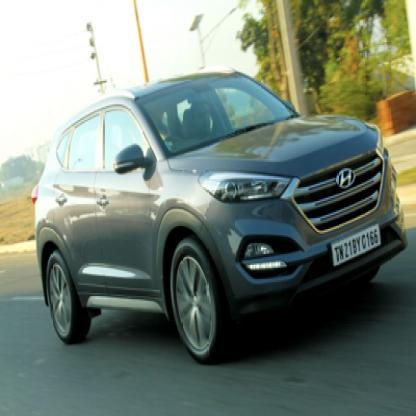licence: (321, 226, 386, 265)
